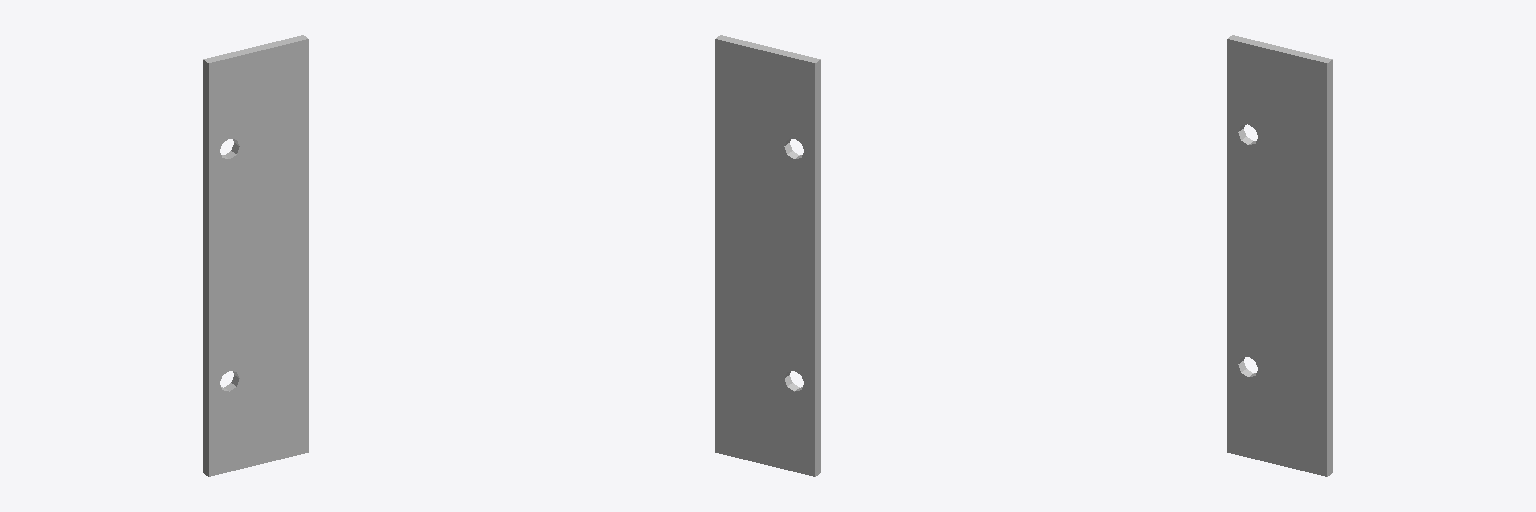
The model's file is QTR-8A_PCB.obj.
3 renders of one model, left to right at view 1: azimuth 30°, elevation 25°; view 2: azimuth 150°, elevation 25°; view 3: azimuth 330°, elevation 25°, orthographic.
Parts seen in each view (by area): view 1: QTR-8A; view 2: QTR-8A; view 3: QTR-8A.
Part boxes in pixels (left/top/right/bottom): QTR-8A: left=203, top=35, right=308, bottom=476; QTR-8A: left=715, top=35, right=820, bottom=476; QTR-8A: left=1227, top=35, right=1332, bottom=476.
Size of the model in its own units: 0.017 by 0.067 by 0.0016.